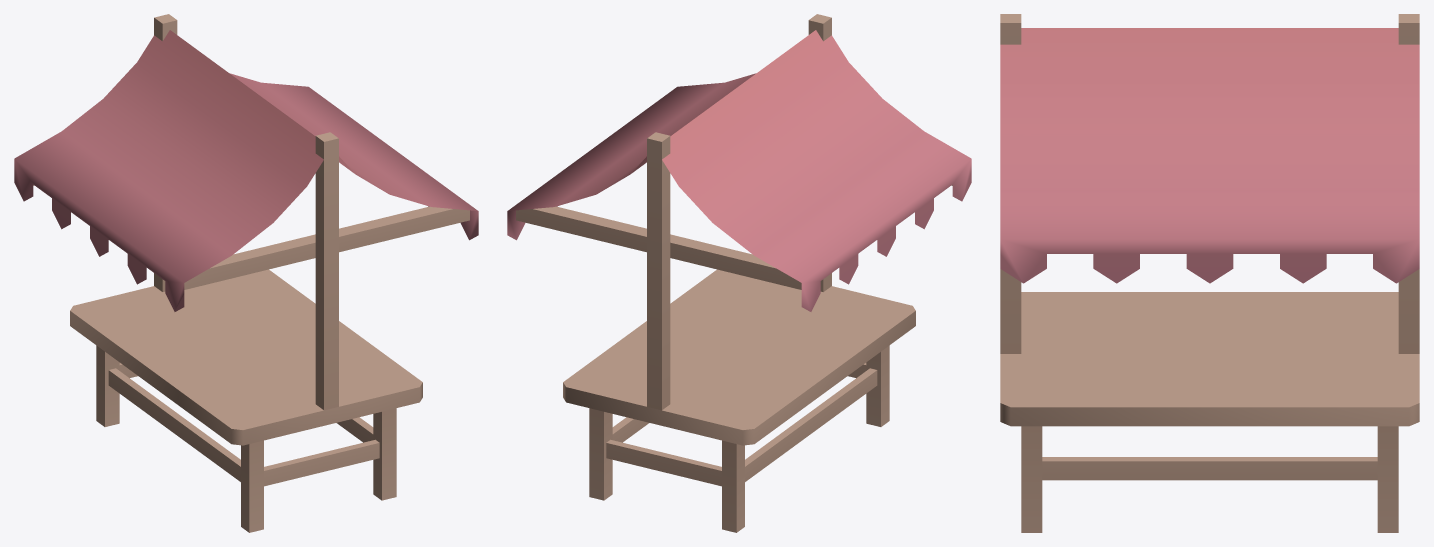
File: kn_stall_red.glb
3 renders of one model, left to right at view 1: azimuth 30°, elevation 25°; view 2: azimuth 150°, elevation 25°; view 3: azimuth 270°, elevation 25°, orthographic. The views are drawn at different scales.
Parts seen in each view (by area): view 1: stall-red; view 2: stall-red; view 3: stall-red.
Boxes of the visible parts, x1=… form: stall-red: x1=14, y1=14, x2=478, y2=532; stall-red: x1=507, y1=14, x2=971, y2=532; stall-red: x1=1000, y1=14, x2=1419, y2=532.
Size of the model in its own units: 2.2 by 2.72 by 2.2.
